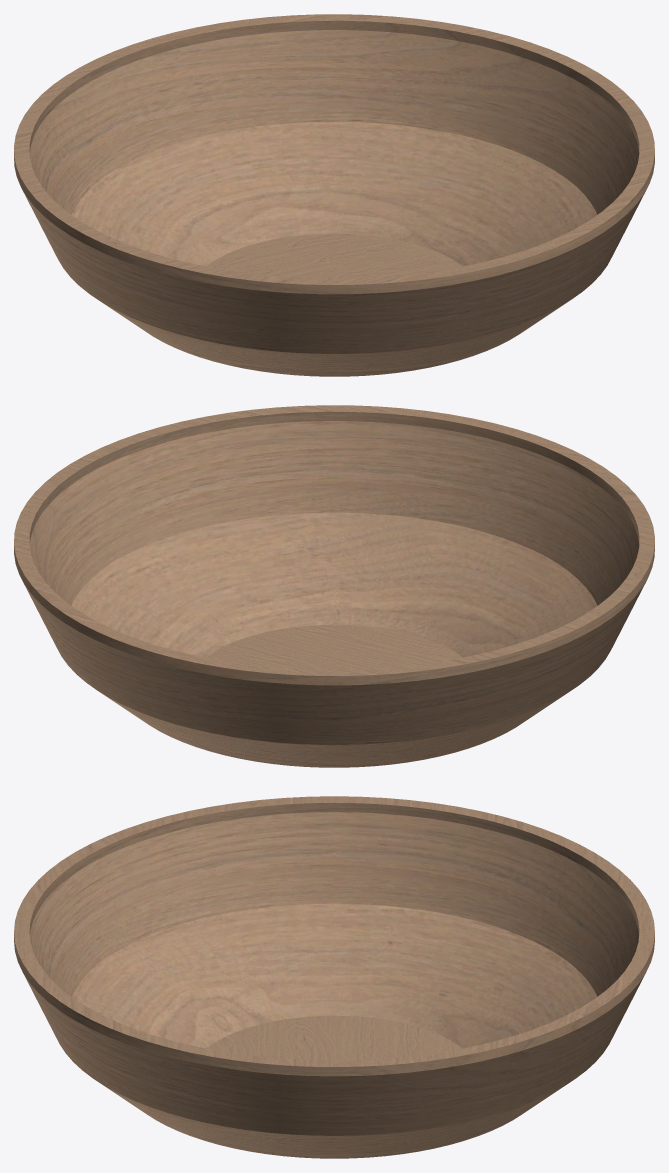
File: misc_com_wood_bowl_01.dae
The picture shows the model from 3 angles, top to bottom: view 1: azimuth 30°, elevation 25°; view 2: azimuth 150°, elevation 25°; view 3: azimuth 270°, elevation 25°; orthographic projection.
Parts seen in each view (by area): view 1: oak; view 2: oak; view 3: oak.
Part boxes in pixels (box(x1,y1,x2,y2)): oak: box(14, 14, 654, 376); oak: box(14, 405, 654, 767); oak: box(14, 796, 654, 1158).
Size of the model in its own units: 18.82 by 18.82 by 5.29.
